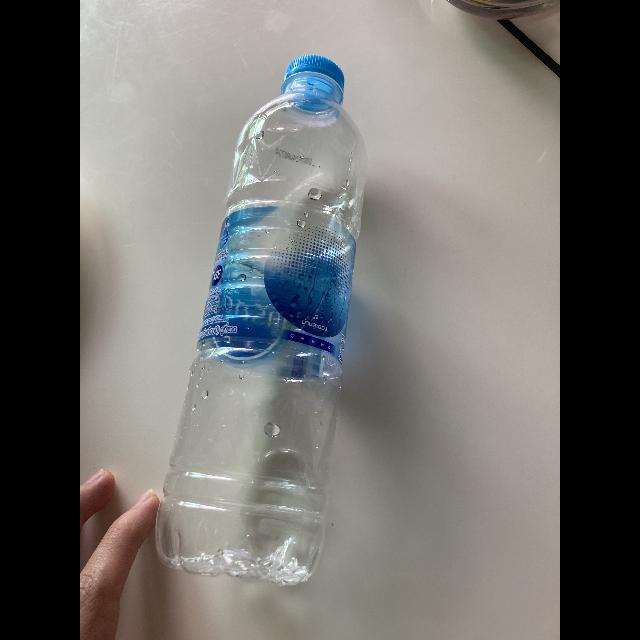plastic_bottle: (151, 54, 365, 586)
plastic_bottle_cap: (282, 56, 346, 112)
